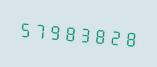eight: (122, 23, 136, 52), (62, 18, 76, 46), (92, 21, 106, 49)
five: (17, 14, 31, 42)
nine: (47, 17, 61, 45)
seven: (32, 16, 46, 44)
three: (77, 19, 91, 48)
two: (107, 22, 121, 50)
